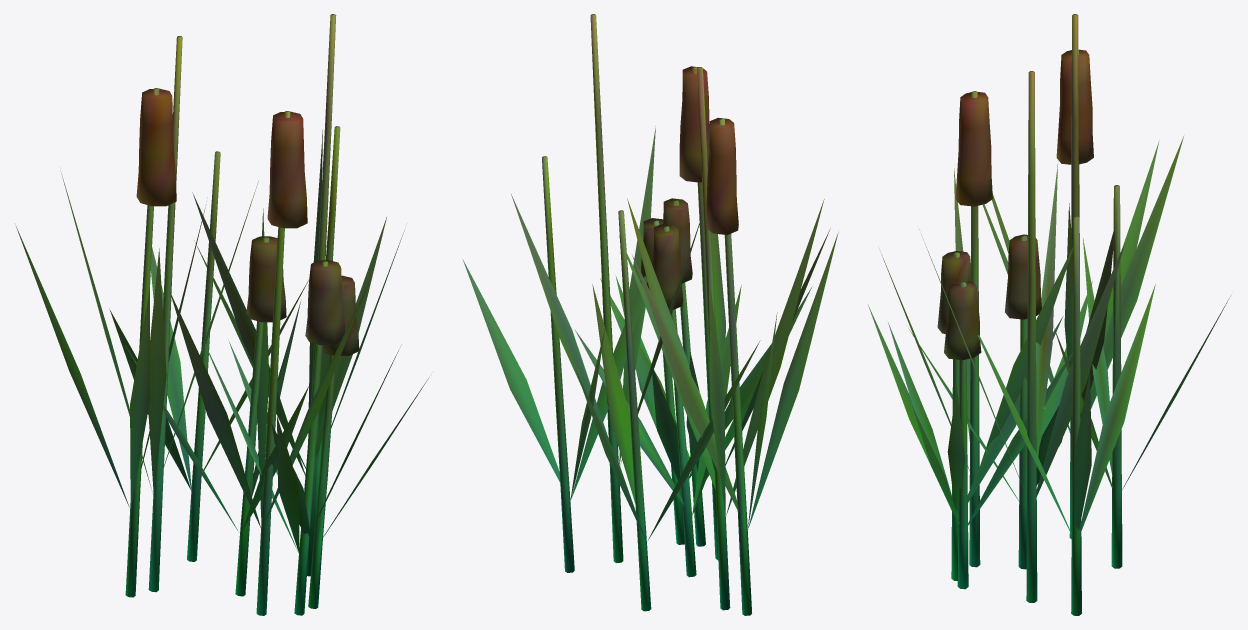
File: Reeds_A.fbx
The picture shows the model from 3 angles, left to right: view 1: azimuth 30°, elevation 25°; view 2: azimuth 150°, elevation 25°; view 3: azimuth 270°, elevation 25°; orthographic projection. The views are drawn at different scales.
Visible parts, largest first — view 1: Reeds_A; view 2: Reeds_A; view 3: Reeds_A.
Boxes of the visible parts, left/top/right/bottom form: Reeds_A: left=15, top=14, right=429, bottom=615; Reeds_A: left=462, top=14, right=838, bottom=615; Reeds_A: left=868, top=14, right=1230, bottom=615.
Size of the model in its own units: 0.5491 by 0.81 by 0.4967.
